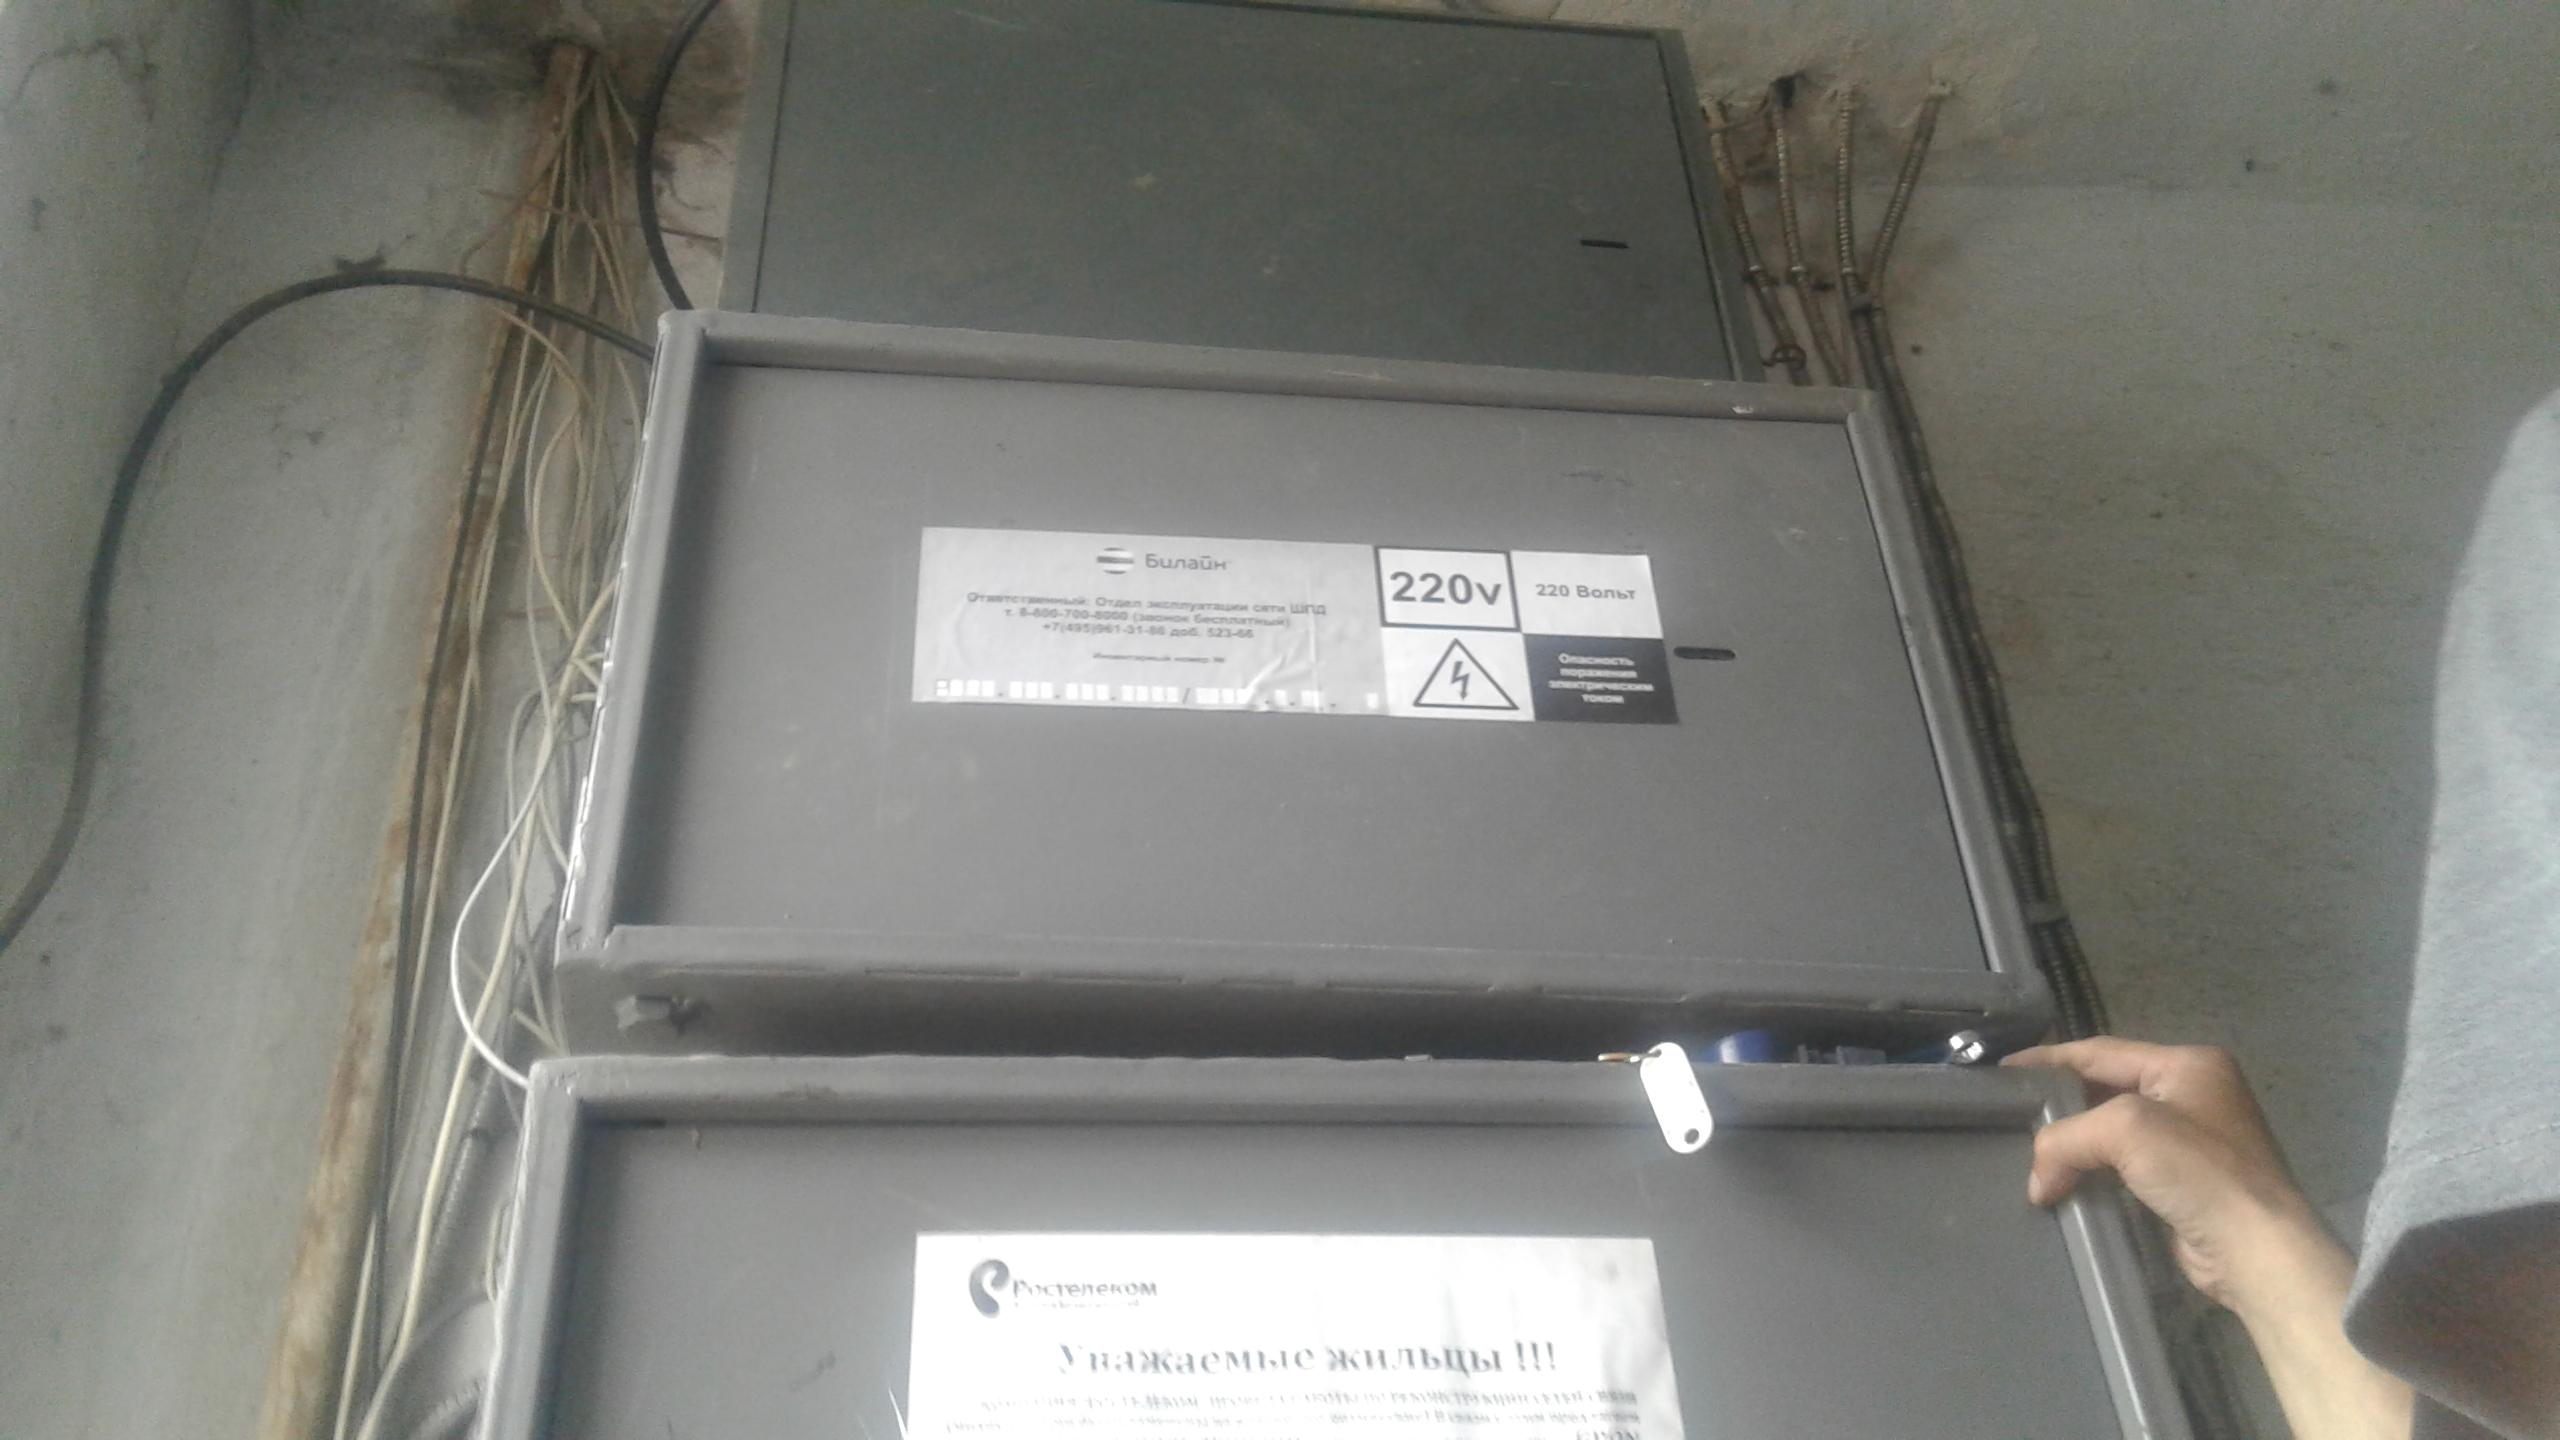e2-6u: (533, 297, 2069, 1030)
